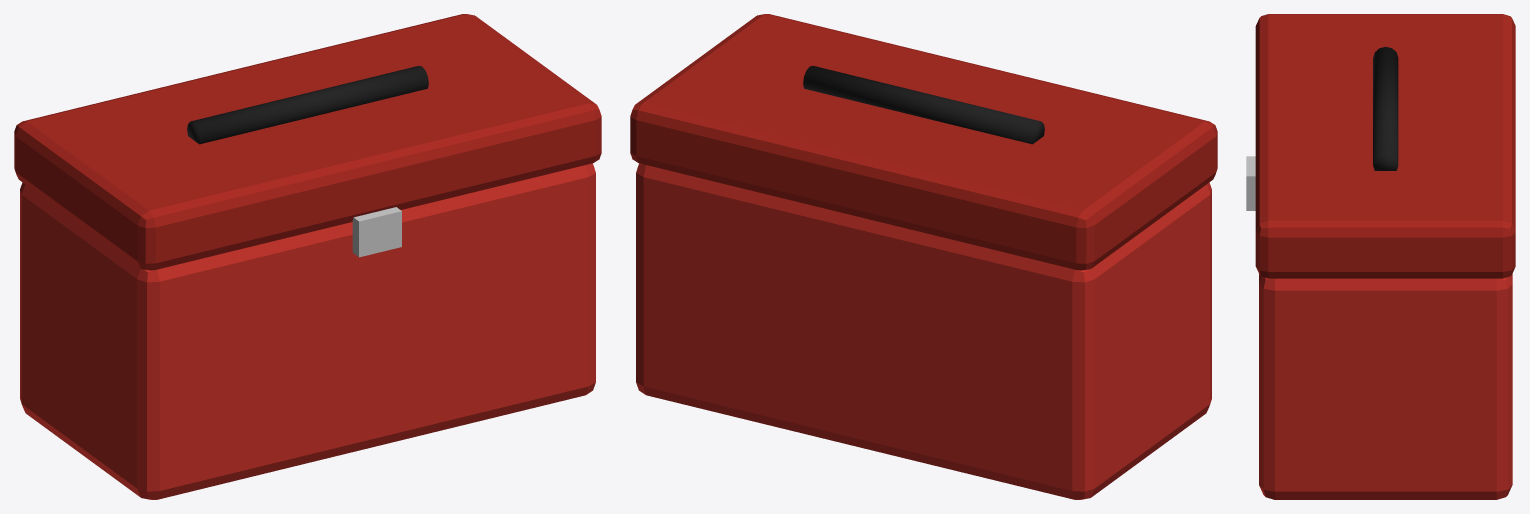
Rendered from Toolbox.fbx.
3 renders of one model, left to right at view 1: azimuth 30°, elevation 25°; view 2: azimuth 150°, elevation 25°; view 3: azimuth 270°, elevation 25°, orthographic. The views are drawn at different scales.
Visible parts, largest first — view 1: Part__Metal__c8322a, Part__Metal__a82820, Part__Metal__222222, Part__Metal__cccccc; view 2: Part__Metal__c8322a, Part__Metal__a82820, Part__Metal__222222; view 3: Part__Metal__a82820, Part__Metal__c8322a, Part__Metal__222222, Part__Metal__cccccc.
Boxes of the visible parts, x1=… form: Part__Metal__c8322a: x1=20, y1=163, x2=595, y2=499; Part__Metal__a82820: x1=14, y1=14, x2=601, y2=270; Part__Metal__222222: x1=187, y1=66, x2=428, y2=144; Part__Metal__cccccc: x1=352, y1=207, x2=401, y2=257; Part__Metal__c8322a: x1=636, y1=163, x2=1211, y2=499; Part__Metal__a82820: x1=630, y1=14, x2=1217, y2=270; Part__Metal__222222: x1=803, y1=66, x2=1044, y2=144; Part__Metal__a82820: x1=1255, y1=14, x2=1515, y2=278; Part__Metal__c8322a: x1=1259, y1=274, x2=1512, y2=499; Part__Metal__222222: x1=1373, y1=46, x2=1398, y2=170; Part__Metal__cccccc: x1=1246, y1=156, x2=1255, y2=210.
Size of the model in its own units: 1.62 by 1.04 by 0.85.
